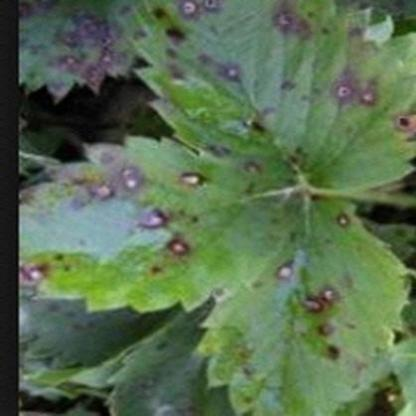Strawberry_Leaf_Spot: (129, 0, 416, 194), (18, 132, 304, 314), (192, 198, 416, 415), (18, 0, 152, 104)
